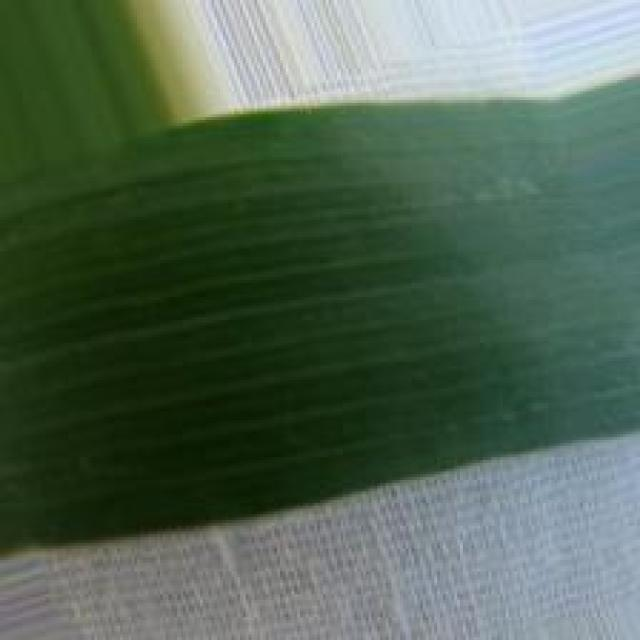Healthy: (0, 77, 640, 560)
